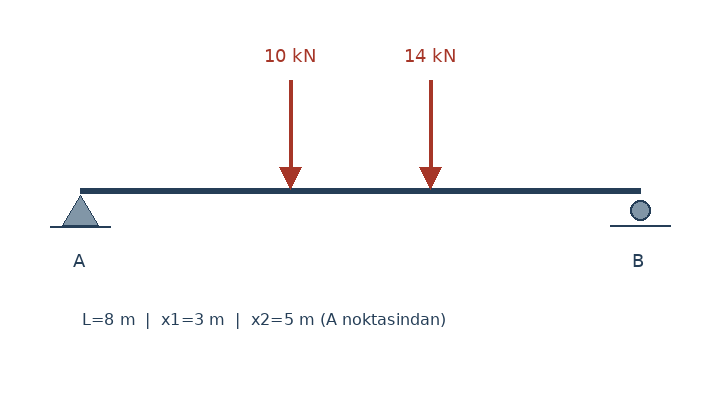pin_support: (61, 190, 99, 226)
point_load: (276, 76, 304, 190), (416, 76, 444, 190)
roller_support: (625, 196, 655, 227)
